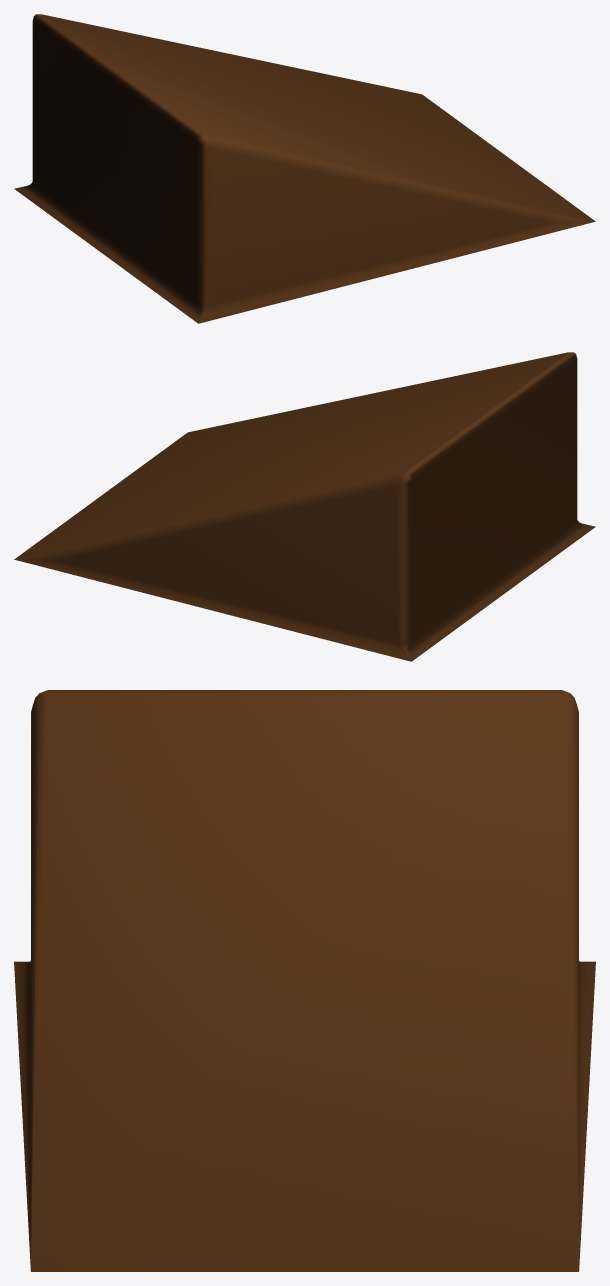
The model's file is loose-wooden-wedge.obj.
3 renders of one model, top to bottom at view 1: azimuth 30°, elevation 25°; view 2: azimuth 150°, elevation 25°; view 3: azimuth 270°, elevation 25°, orthographic. The views are drawn at different scales.
Visible parts, largest first — view 1: loose-wooden-wedge; view 2: loose-wooden-wedge; view 3: loose-wooden-wedge.
Boxes of the visible parts, x1,y1,x2,y2 form: loose-wooden-wedge: [14, 14, 595, 323]; loose-wooden-wedge: [14, 352, 595, 661]; loose-wooden-wedge: [14, 690, 595, 1271].
Size of the model in its own units: 0.348 by 0.1475 by 0.276.
